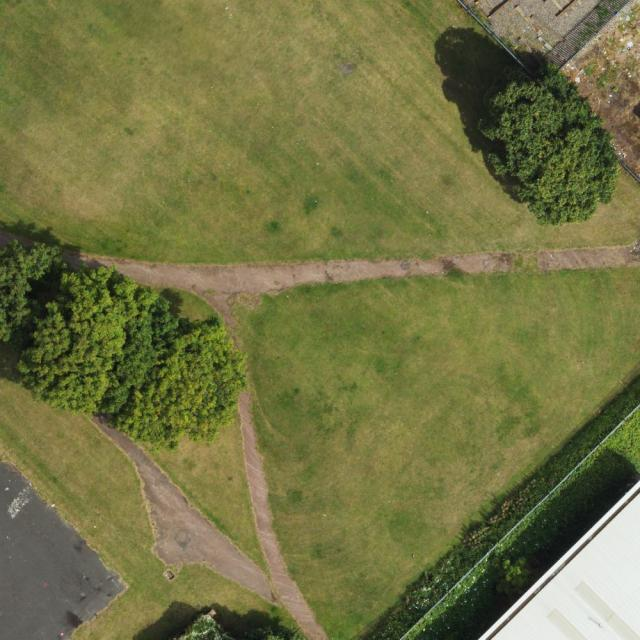roof: (478, 481, 640, 640)
